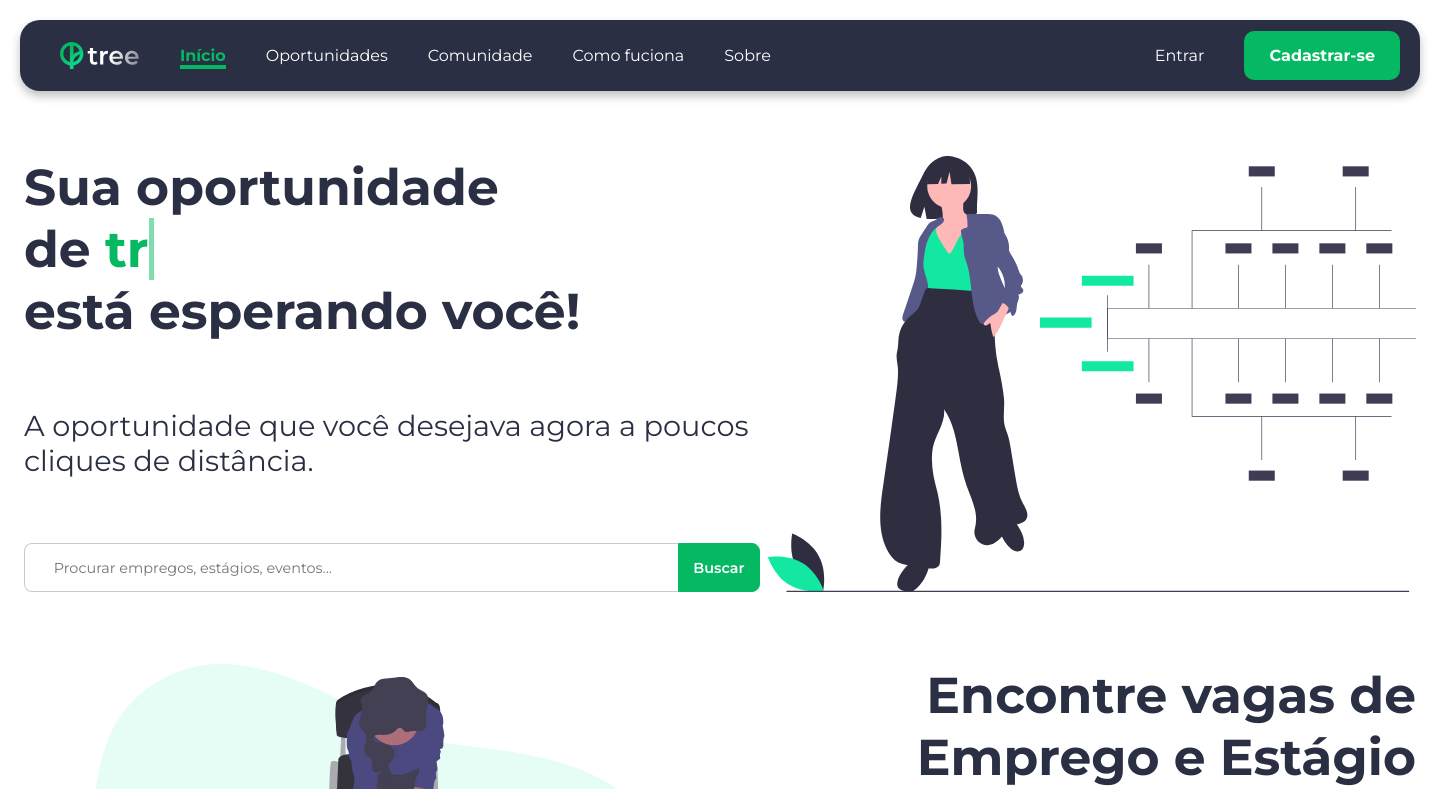
it: Fluxo navbar › Checar pagína de Login
Click the link with test id "goLogin". click: (1180, 56)
box: [1155, 46, 1205, 65]
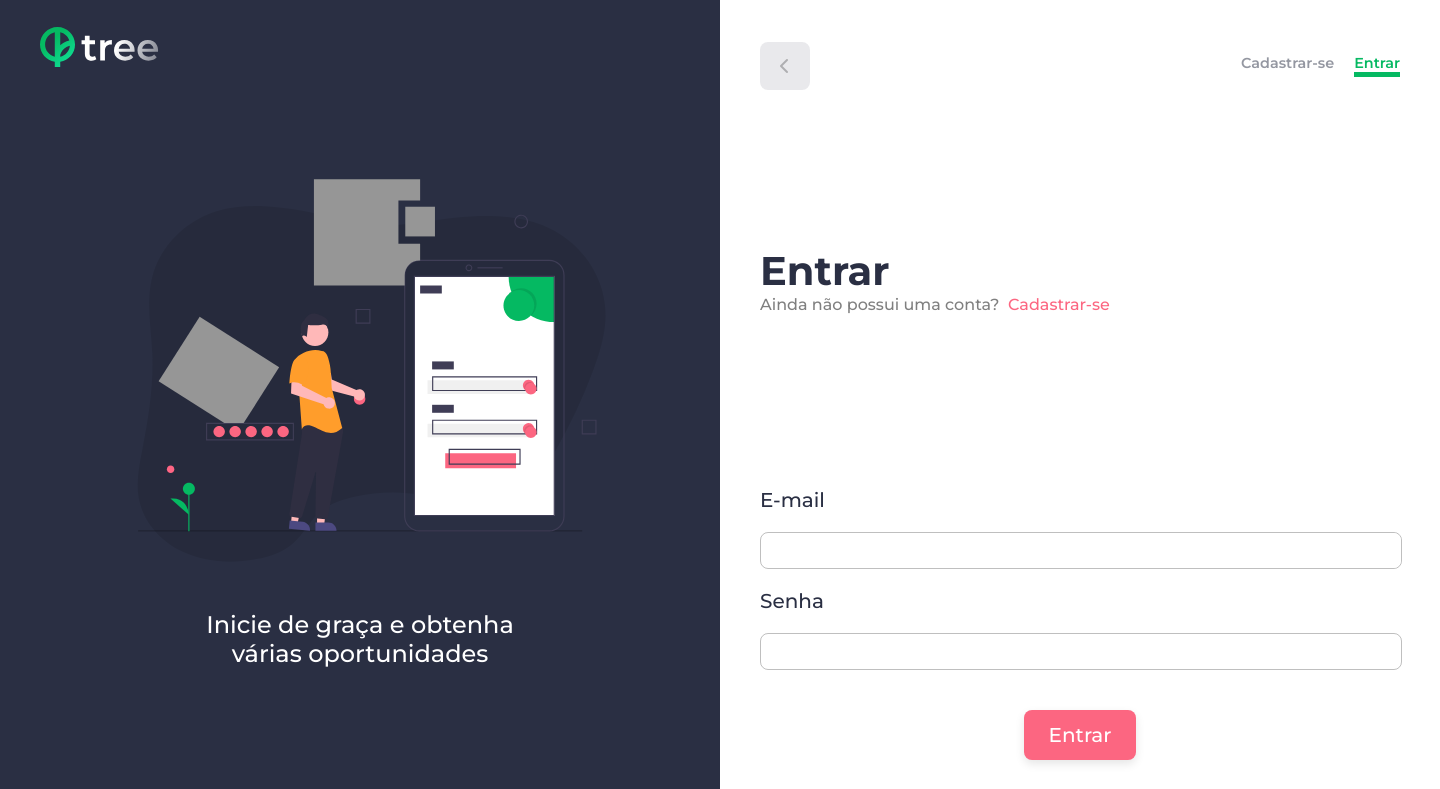
expect the text "Entrar" is shown: met, box [1354, 54, 1400, 77]
expect the heading "Ainda não possui uma conta?" is shown: met, box [760, 295, 1008, 314]
